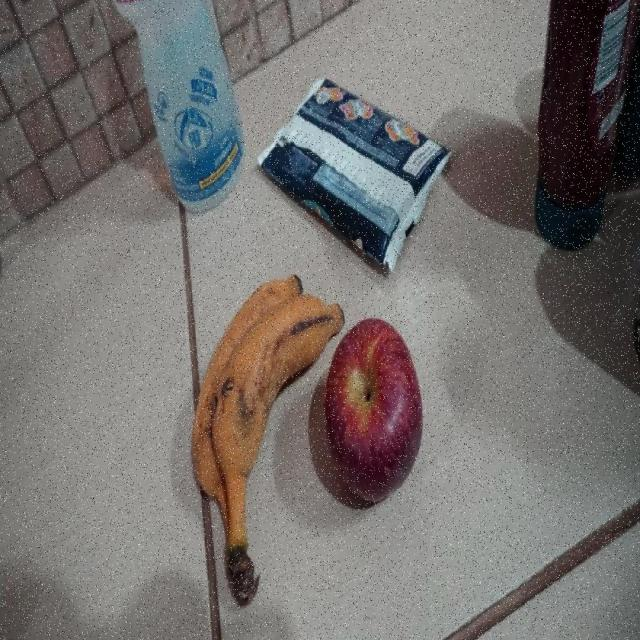AlcoholBottle: (101, 0, 245, 216)
Apple: (324, 318, 423, 510)
Banana: (190, 274, 346, 608)
Ketchup: (533, 0, 640, 250)
Popcorn: (255, 78, 455, 274)
